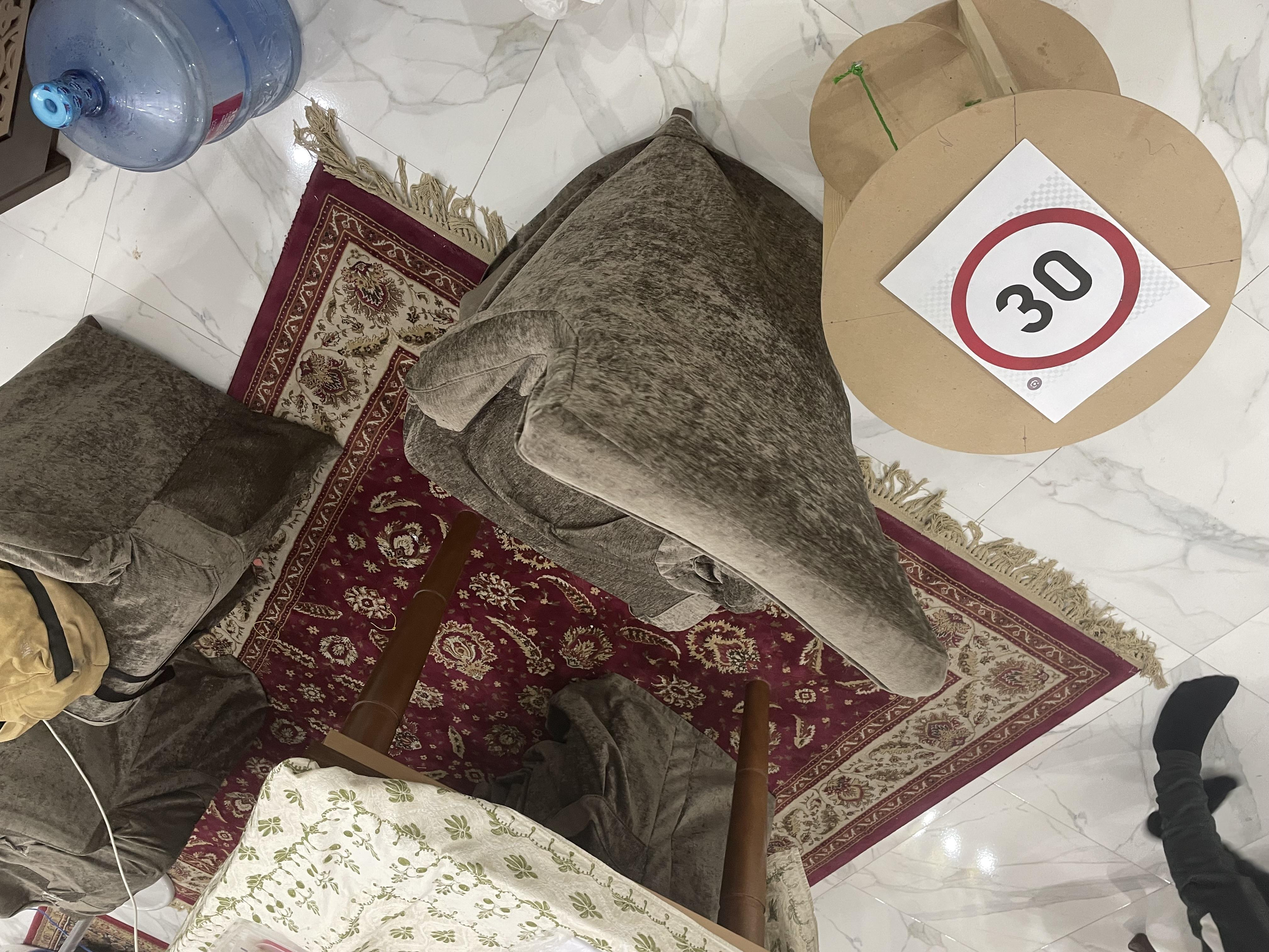30-speed: (777, 711, 996, 863)
